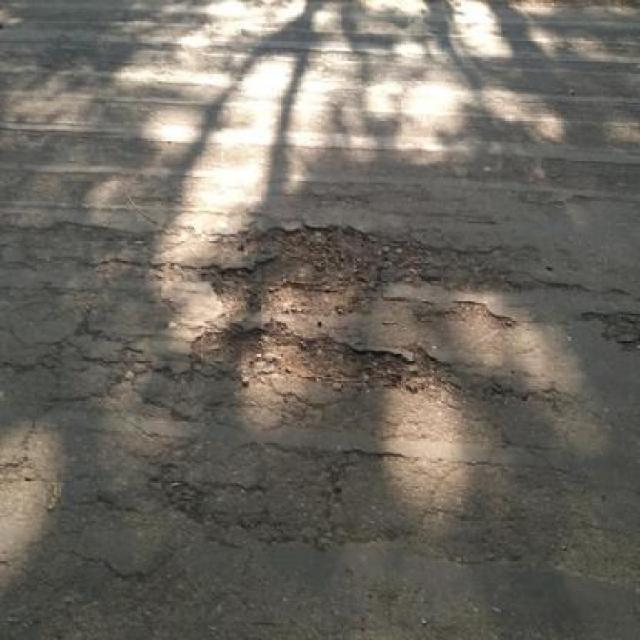Pothole: (200, 222, 433, 318), (188, 321, 452, 404)
